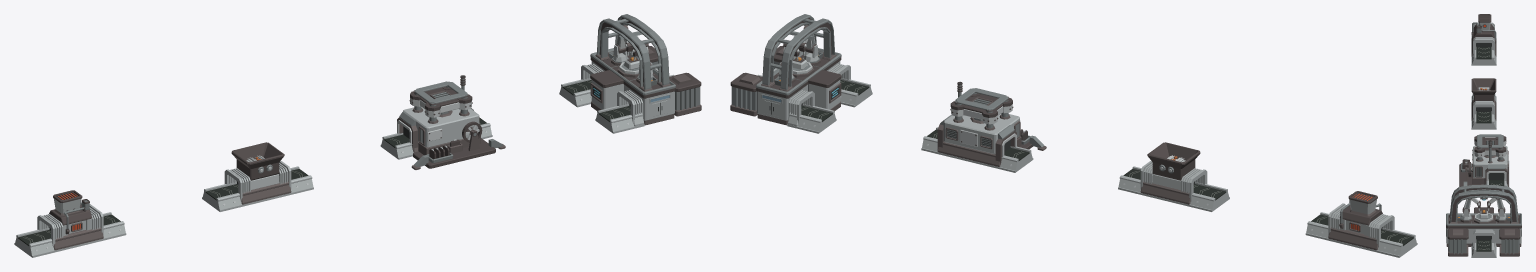
File: view_models.fbx
3 renders of one model, left to right at view 1: azimuth 30°, elevation 25°; view 2: azimuth 150°, elevation 25°; view 3: azimuth 270°, elevation 25°, orthographic. The views are drawn at different scales.
Visible parts, largest first — view 1: v_assembler4, v_former2, v_crusher3, v_smelter8; view 2: v_assembler4, v_former2, v_crusher3, v_smelter8; view 3: v_assembler4, v_former2, v_crusher3, v_smelter8.
Part boxes in pixels (left/top/right/bottom): v_assembler4: left=559, top=14, right=701, bottom=133; v_former2: left=380, top=75, right=505, bottom=169; v_crusher3: left=202, top=142, right=313, bottom=211; v_smelter8: left=14, top=190, right=126, bottom=257; v_assembler4: left=730, top=14, right=872, bottom=133; v_former2: left=921, top=81, right=1046, bottom=172; v_crusher3: left=1118, top=142, right=1229, bottom=211; v_smelter8: left=1305, top=191, right=1417, bottom=257; v_assembler4: left=1446, top=184, right=1521, bottom=257; v_former2: left=1459, top=134, right=1509, bottom=186; v_crusher3: left=1471, top=78, right=1496, bottom=129; v_smelter8: left=1471, top=14, right=1496, bottom=65.
Bounding box in the file's own units: 63 × 6.96 × 9.
1 material, 1 textured.
